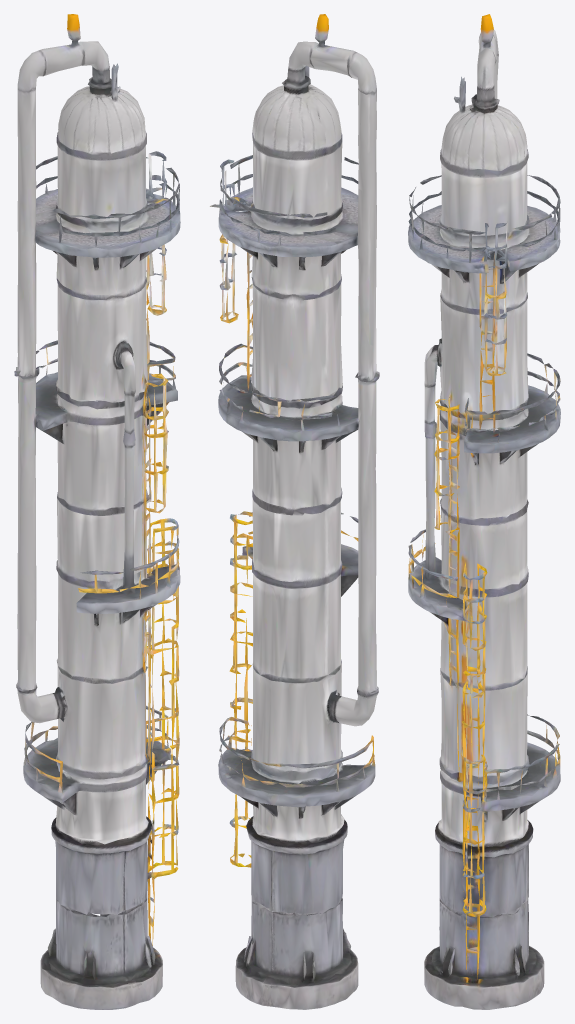
File: distColumn.glb
3 renders of one model, left to right at view 1: azimuth 30°, elevation 25°; view 2: azimuth 150°, elevation 25°; view 3: azimuth 270°, elevation 25°, orthographic. The views are drawn at different scales.
Parts seen in each view (by area): view 1: distColumn; view 2: distColumn; view 3: distColumn.
Boxes of the visible parts, left/top/right/bottom form: distColumn: left=14, top=14, right=180, bottom=1009; distColumn: left=210, top=14, right=379, bottom=1009; distColumn: left=408, top=14, right=560, bottom=1009.
Bounding box in the file's own units: 6.8 × 40 × 5.8.
Materials: 1 (1 with a texture image).
